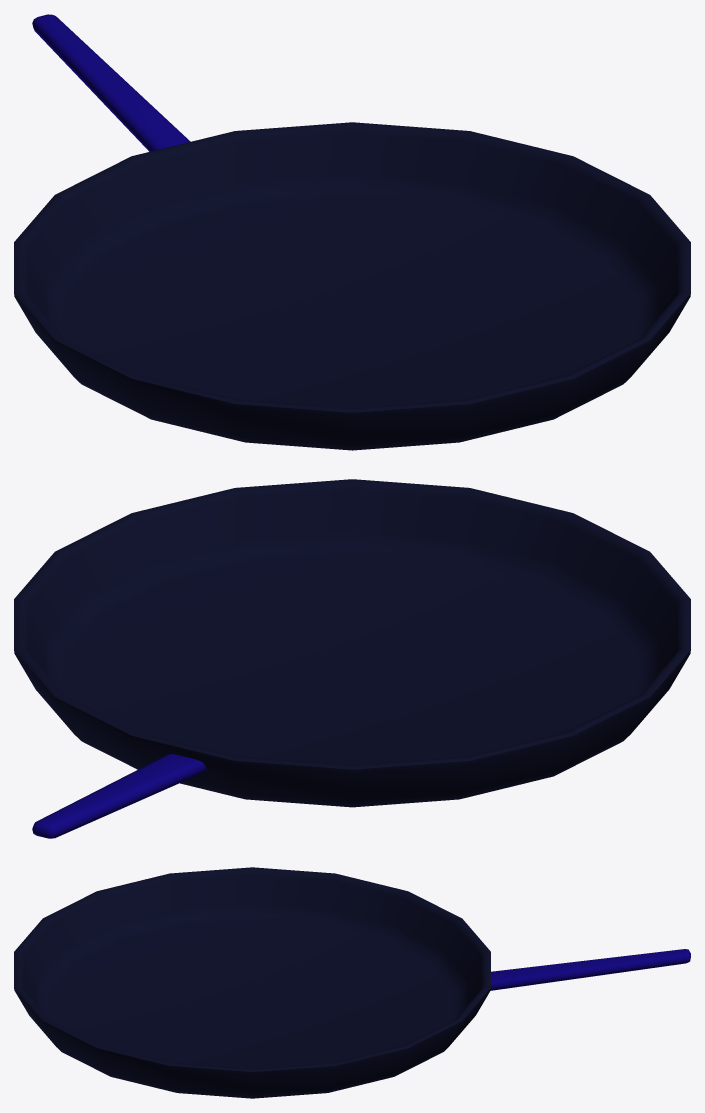
The model's file is SM_Pan_01.fbx.
3 renders of one model, top to bottom at view 1: azimuth 30°, elevation 25°; view 2: azimuth 150°, elevation 25°; view 3: azimuth 270°, elevation 25°, orthographic. The views are drawn at different scales.
Parts seen in each view (by area): view 1: SM_Pan_01; view 2: SM_Pan_01; view 3: SM_Pan_01.
Part boxes in pixels (left/top/right/bottom): SM_Pan_01: left=14, top=14, right=690, bottom=450; SM_Pan_01: left=14, top=479, right=690, bottom=838; SM_Pan_01: left=14, top=867, right=690, bottom=1098.
Bounding box in the file's own units: 46.82 × 6 × 65.43.
